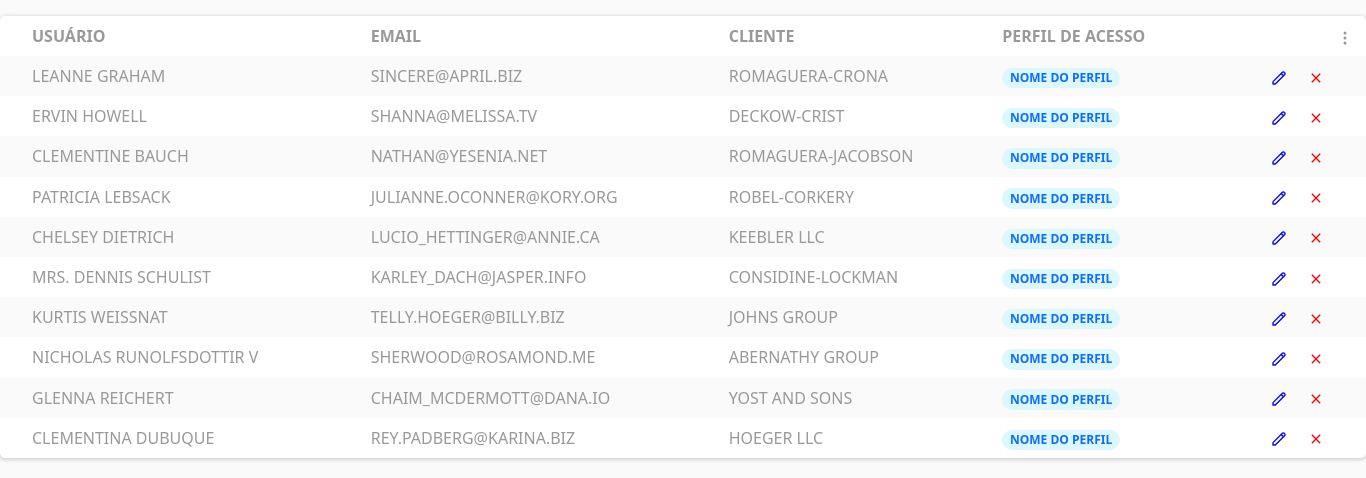
Test: hides/show "Cliente" column
Click the icon with test id "Dropdown.Toggle" at [1345, 38], box [1337, 30, 1353, 46]
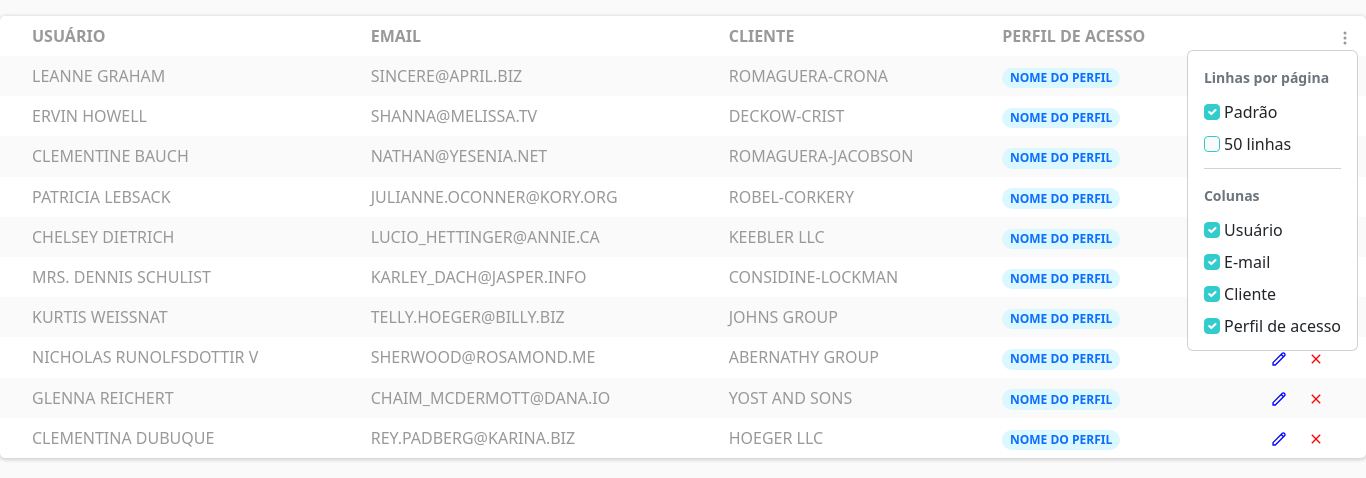
Expected: the column heading with test id "ClientCol" is shown, [721, 16, 994, 56]
Click the button with test id "Dropdown.Item.ClientCol" at [1240, 294], box [1204, 283, 1276, 305]
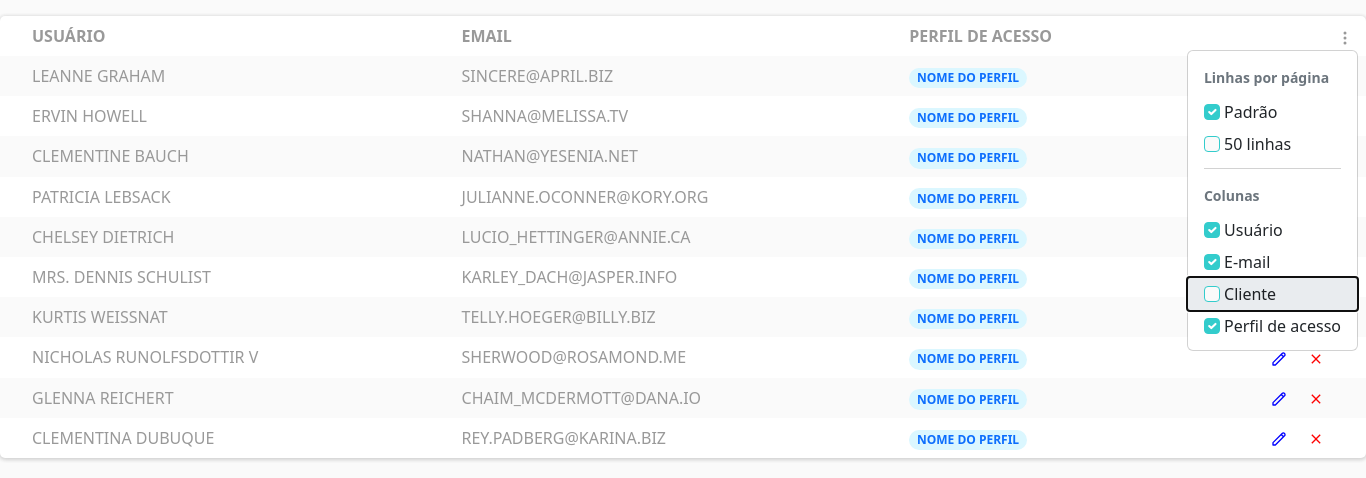
Expected: the column heading with test id "ClientCol" is gone
Click the button with test id "Dropdown.Item.ClientCol" at [1272, 294], box [1188, 278, 1357, 310]
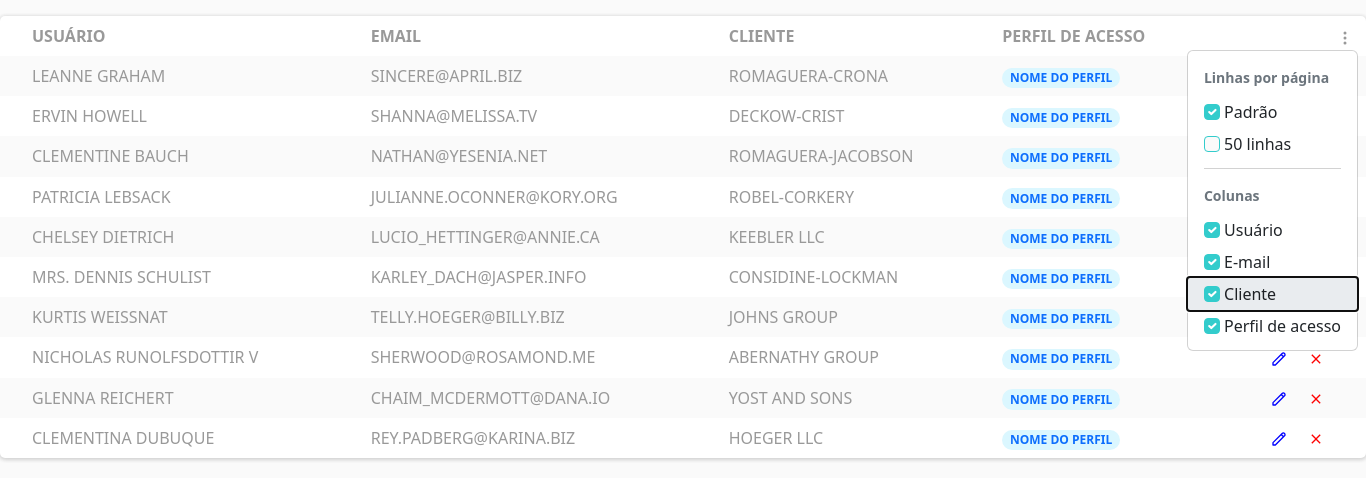
Expected: the column heading with test id "ClientCol" is shown, [721, 16, 994, 56]
